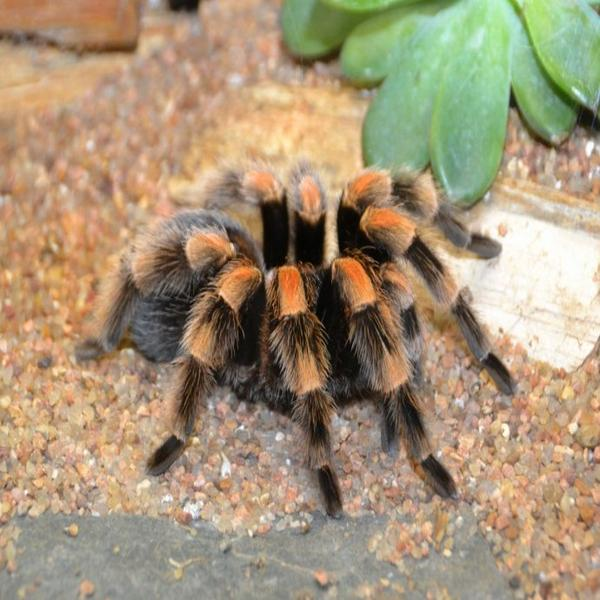Tarantula Spider: (111, 163, 519, 509)
